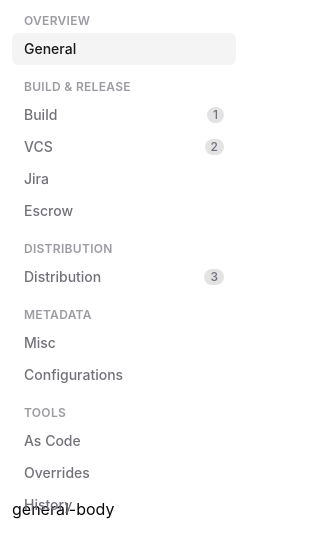
Test: EditorSidebarNav › clicking an item selects it and shows the matching body
Expected: the text "general-body" is shown, [12,499,114,519]
Step 1. Click the tab "VCS 2" → (124, 147), box [12,131,236,163]
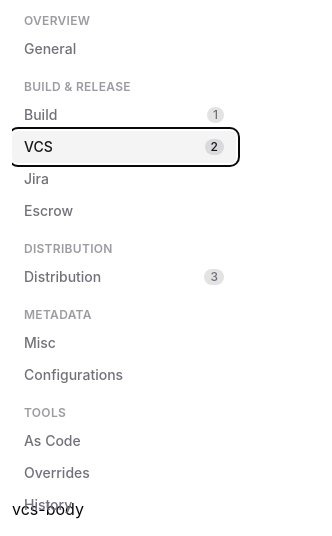
Result: the text "vcs-body" is shown at [12,499,84,519]
